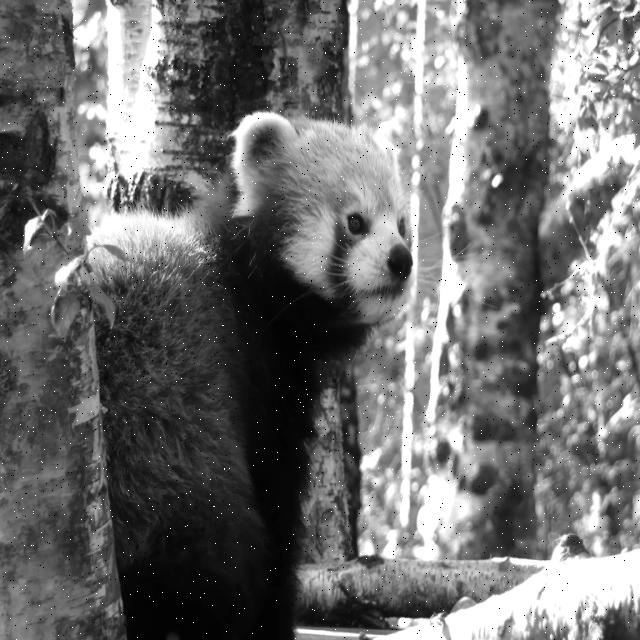panda: (49, 104, 408, 631)
